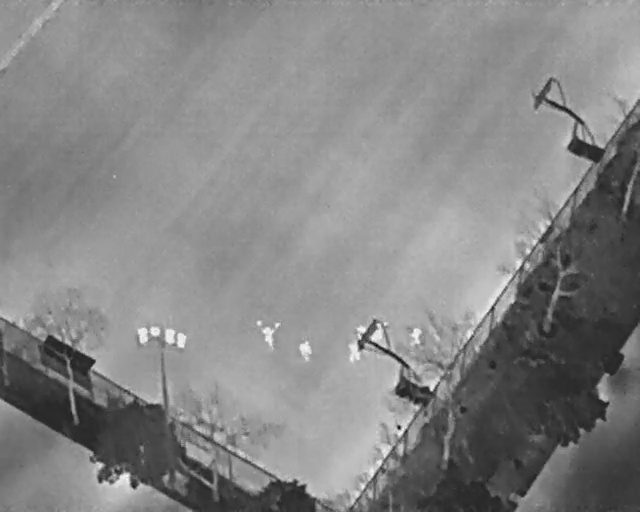Person: (254, 318, 282, 351), (371, 321, 389, 343), (348, 338, 362, 363), (298, 339, 312, 363), (353, 323, 366, 342), (411, 327, 423, 346)
